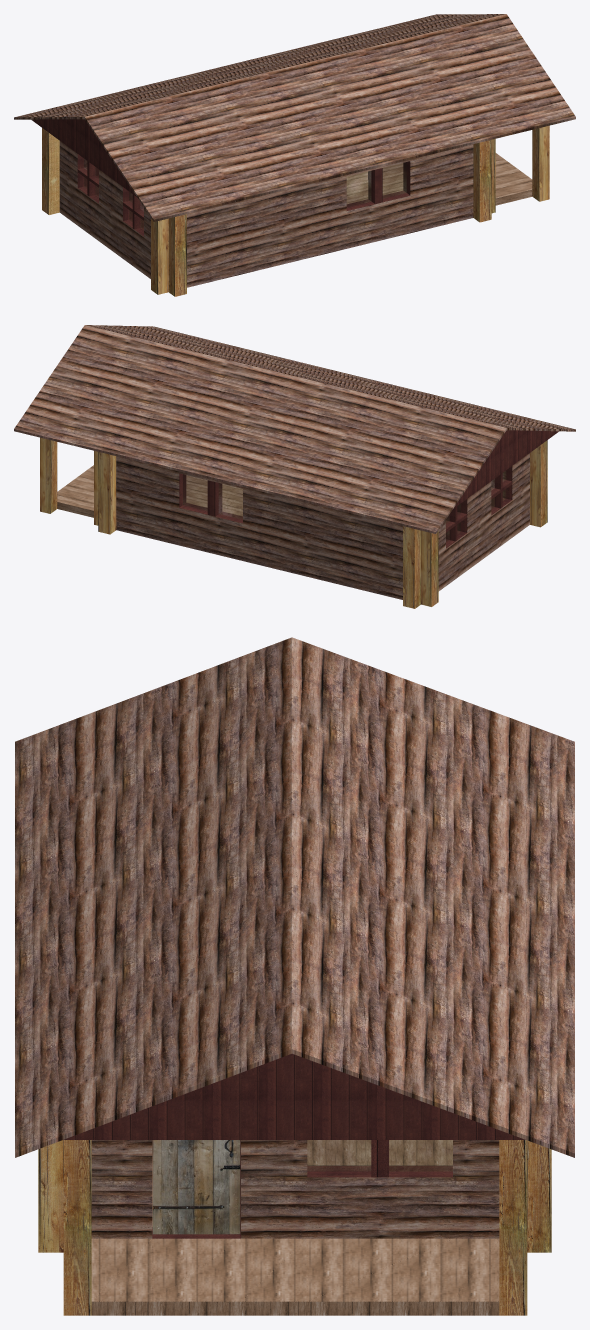
Rendered from Cabin.fbx.
The picture shows the model from 3 angles, top to bottom: view 1: azimuth 30°, elevation 25°; view 2: azimuth 150°, elevation 25°; view 3: azimuth 270°, elevation 25°; orthographic projection. The views are drawn at different scales.
Visible parts, largest first — view 1: Roof, ExteriorWallL, Pillars, ExteriorWallW, WindowSills, RoofEdges, WindowPanes, Porch, Floor; view 2: Roof, ExteriorWallL, Pillars, ExteriorWallW, WindowSills, RoofEdges, WindowPanes, Porch, Floor; view 3: Roof, Porch, ExteriorWallW, RoofEdges, Pillars, FrontDoor, WindowPanes, Floor, WindowSills.
Boxes of the visible parts, x1=… form: Roof: x1=14, y1=14, x2=575, y2=221; ExteriorWallL: x1=187, y1=144, x2=473, y2=287; Pillars: x1=42, y1=125, x2=549, y2=296; ExteriorWallW: x1=59, y1=141, x2=150, y2=278; WindowSills: x1=77, y1=154, x2=410, y2=236; RoofEdges: x1=31, y1=119, x2=136, y2=196; WindowPanes: x1=84, y1=159, x2=406, y2=229; Porch: x1=495, y1=153, x2=532, y2=205; Floor: x1=346, y1=163, x2=403, y2=203; Roof: x1=14, y1=325, x2=575, y2=533; ExteriorWallL: x1=116, y1=456, x2=402, y2=599; Pillars: x1=40, y1=437, x2=547, y2=608; ExteriorWallW: x1=438, y1=453, x2=529, y2=591; WindowSills: x1=179, y1=466, x2=512, y2=548; RoofEdges: x1=453, y1=430, x2=558, y2=508; WindowPanes: x1=183, y1=471, x2=505, y2=541; Porch: x1=57, y1=465, x2=93, y2=517; Floor: x1=186, y1=475, x2=242, y2=516; Roof: x1=15, y1=637, x2=574, y2=1157; Porch: x1=91, y1=1238, x2=499, y2=1315; ExteriorWallW: x1=91, y1=1140, x2=499, y2=1238; RoofEdges: x1=63, y1=1053, x2=525, y2=1139; Pillars: x1=38, y1=1140, x2=551, y2=1315; FrontDoor: x1=152, y1=1140, x2=240, y2=1234; WindowPanes: x1=307, y1=1140, x2=452, y2=1171; Floor: x1=152, y1=1140, x2=452, y2=1226; WindowSills: x1=152, y1=1140, x2=452, y2=1238.
Bounding box in the file's own units: 1245 × 395 × 715.
